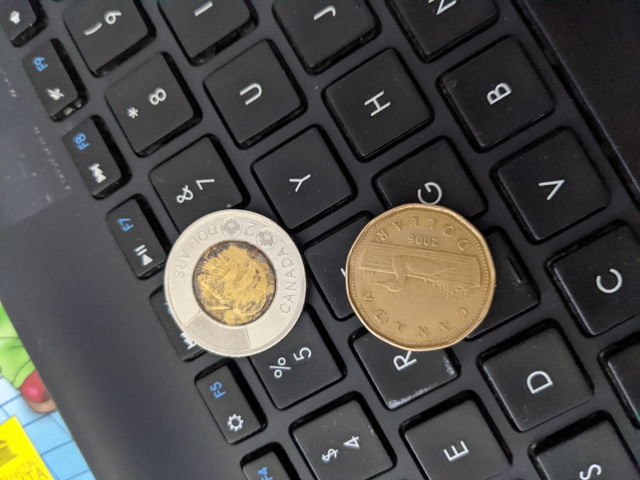loonie: (339, 200, 511, 361)
twonie: (163, 198, 308, 364)
